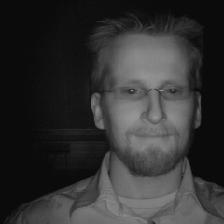normal: (77, 3, 219, 186)
